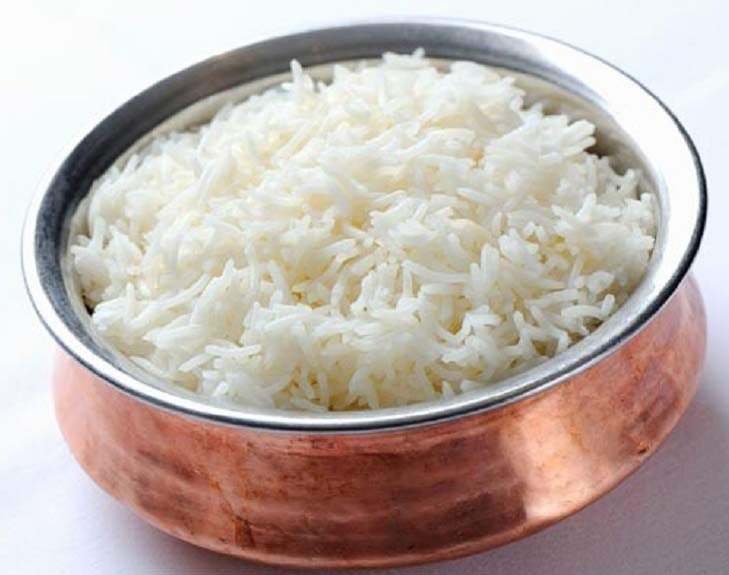rice: (75, 50, 667, 411)
